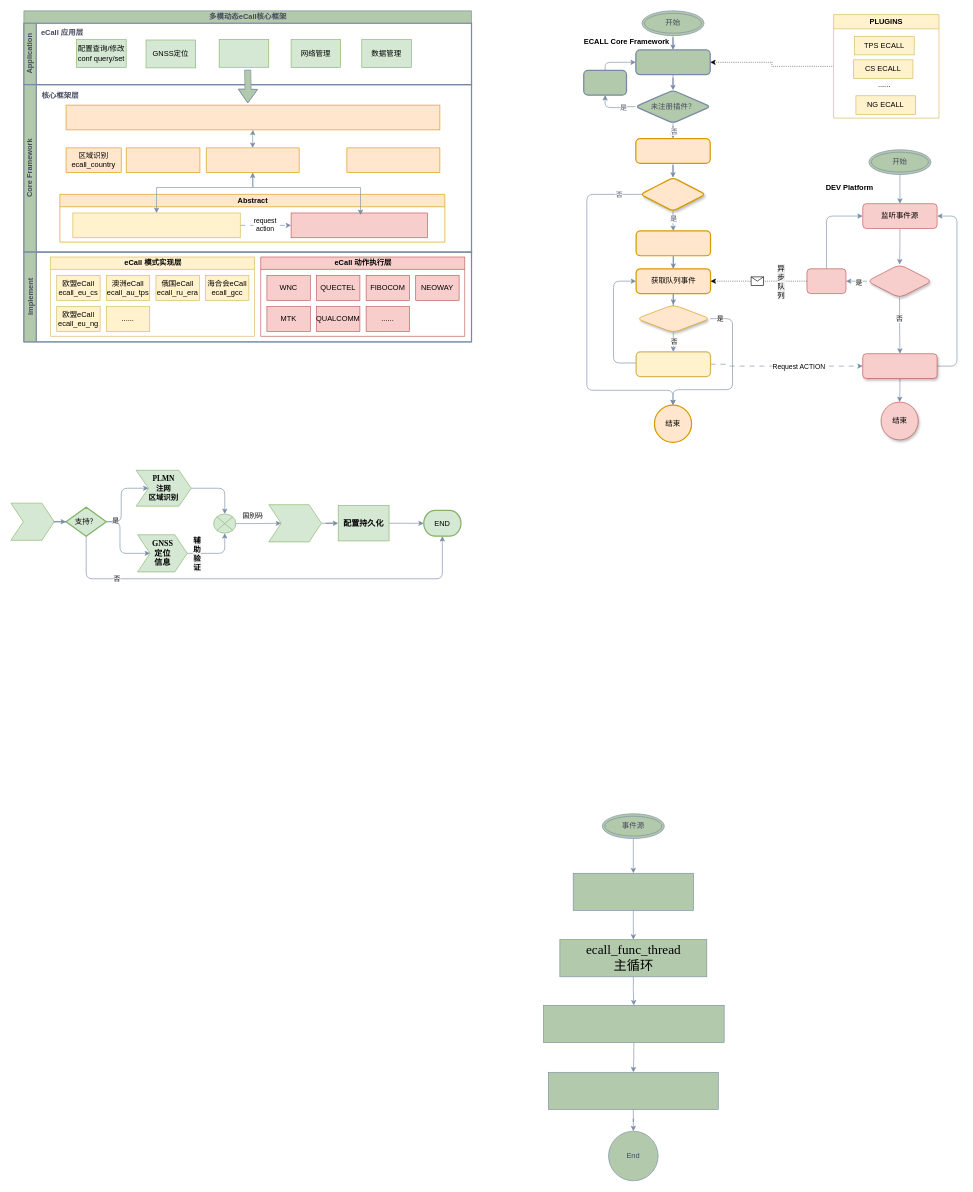
Image size: 973x1192. Some labels were removed from this diagram. Each missing label, with the centre of its shape:
"active_plugin->handle (event)" goes at (633,1090).
"eCall event 映射投递" goes at (244,53).
"ecall_platform_handle (event)" goes at (633,1024).
"maps 映射 匹配" goes at (294,523).
"post" goes at (826,281).
"事件管理 ecall_event dispatch" goes at (252,160).
"加载插件并init" goes at (673,243).
"匹配成功？" goes at (673,195).
"区域识别" goes at (673,151).
"执行动作" goes at (900,367).
"扫描插件目录" goes at (673,62).
"抽象插件接口 ecall_plugin_api" goes at (156,225).
"抽象设备接口 ecall_dev_api" goes at (358,225).
"插件管理 ecall_plugin_manage" goes at (163,160).
"有事件？" goes at (900,281).
"注册插件" goes at (605,82).
"硬件 版本 识别" goes at (32,521).
"线程安全异步队列" goes at (633,891).
"结束事件？" goes at (673,319).
"设备管理 ecall_dev" goes at (393,160).
"运行eCall事件处理" goes at (673,364).
"配置/运行接口 ecall_platform" goes at (252,117).
